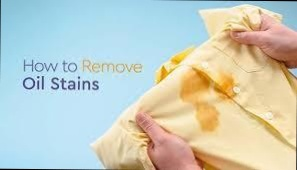oil: (176, 69, 222, 130), (212, 75, 235, 100)
